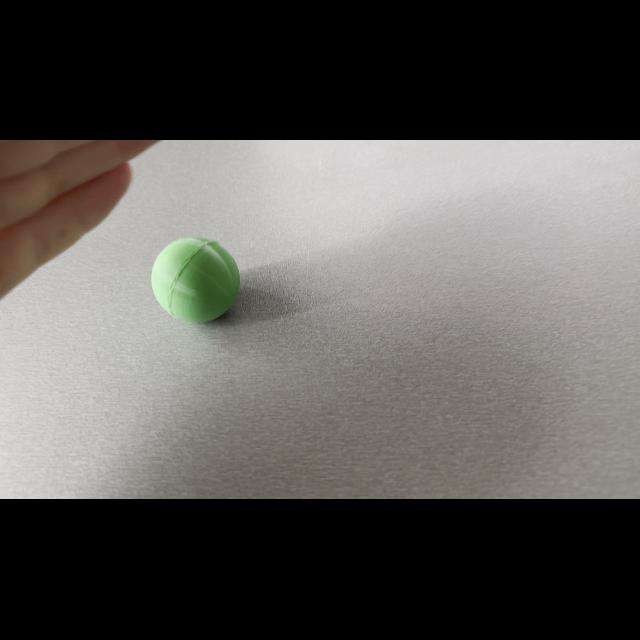objects: (145, 232, 255, 332)
